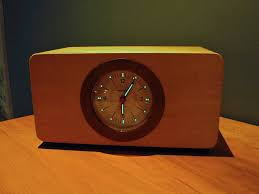alarm_clock: (29, 42, 224, 147), (29, 47, 224, 147)
